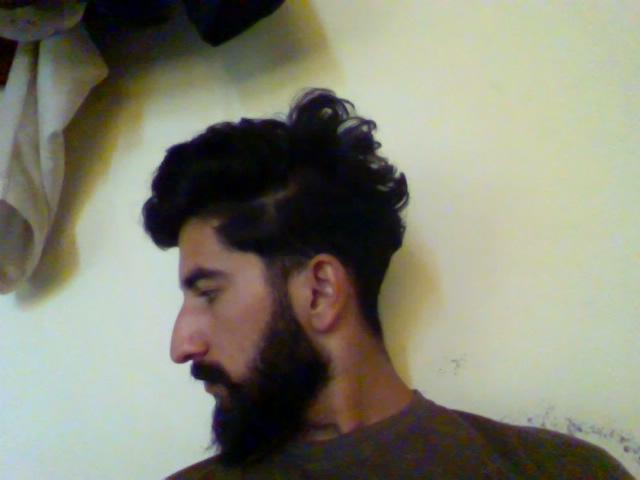hairnetless: (126, 111, 434, 283)
